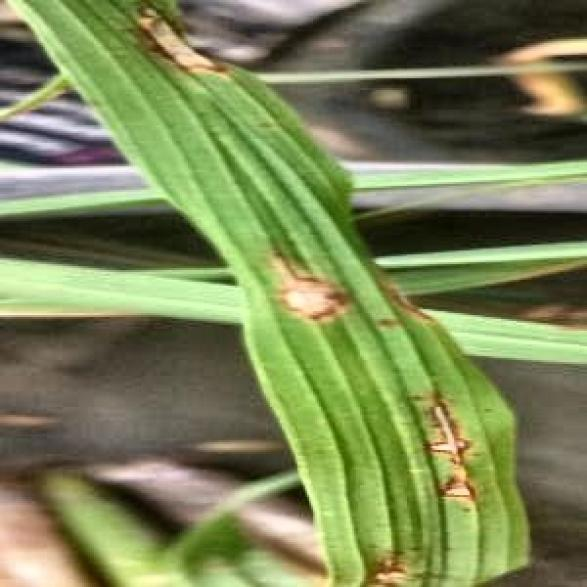Leaf_smut: (255, 254, 484, 503), (358, 538, 432, 585)
